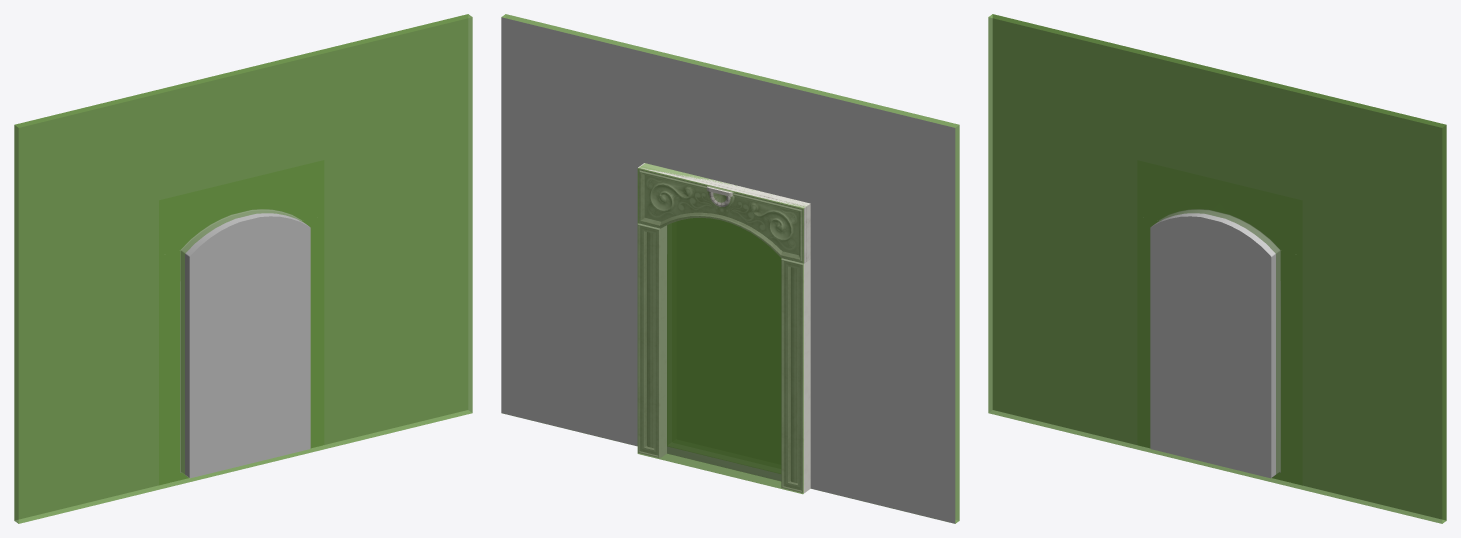
Rendered from F4_md_Wall_5x6_WL_01.fbx.
The picture shows the model from 3 angles, left to right: view 1: azimuth 30°, elevation 25°; view 2: azimuth 150°, elevation 25°; view 3: azimuth 330°, elevation 25°; orthographic projection.
Parts seen in each view (by area): view 1: F4_md_Wall_5x6_WL_01_LOD0, F4_md_Wall_5x6_WL_01_col_02, F4_md_Wall_5x6_WL_01_col_01; view 2: F4_md_Wall_5x6_WL_01_LOD0, F4_md_Wall_5x6_WL_01_col_01, F4_md_Wall_5x6_WL_01_col_02; view 3: F4_md_Wall_5x6_WL_01_LOD0, F4_md_Wall_5x6_WL_01_col_02, F4_md_Wall_5x6_WL_01_col_01.
Boxes of the visible parts, bbox=[...] form: F4_md_Wall_5x6_WL_01_LOD0: bbox=[14, 14, 467, 519]; F4_md_Wall_5x6_WL_01_col_02: bbox=[14, 14, 472, 523]; F4_md_Wall_5x6_WL_01_col_01: bbox=[159, 184, 323, 484]; F4_md_Wall_5x6_WL_01_LOD0: bbox=[501, 17, 955, 523]; F4_md_Wall_5x6_WL_01_col_01: bbox=[637, 163, 804, 494]; F4_md_Wall_5x6_WL_01_col_02: bbox=[501, 14, 959, 523]; F4_md_Wall_5x6_WL_01_LOD0: bbox=[993, 14, 1446, 519]; F4_md_Wall_5x6_WL_01_col_02: bbox=[988, 14, 1446, 523]; F4_md_Wall_5x6_WL_01_col_01: bbox=[1138, 173, 1302, 484].
Size of what is drawn, in the model's own units: 600 by 500 by 39.9.
